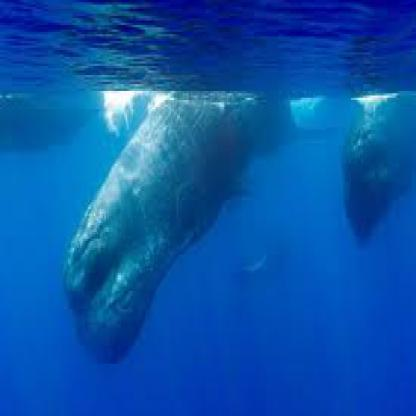sperm_whale: (55, 70, 310, 394), (338, 77, 414, 223)
